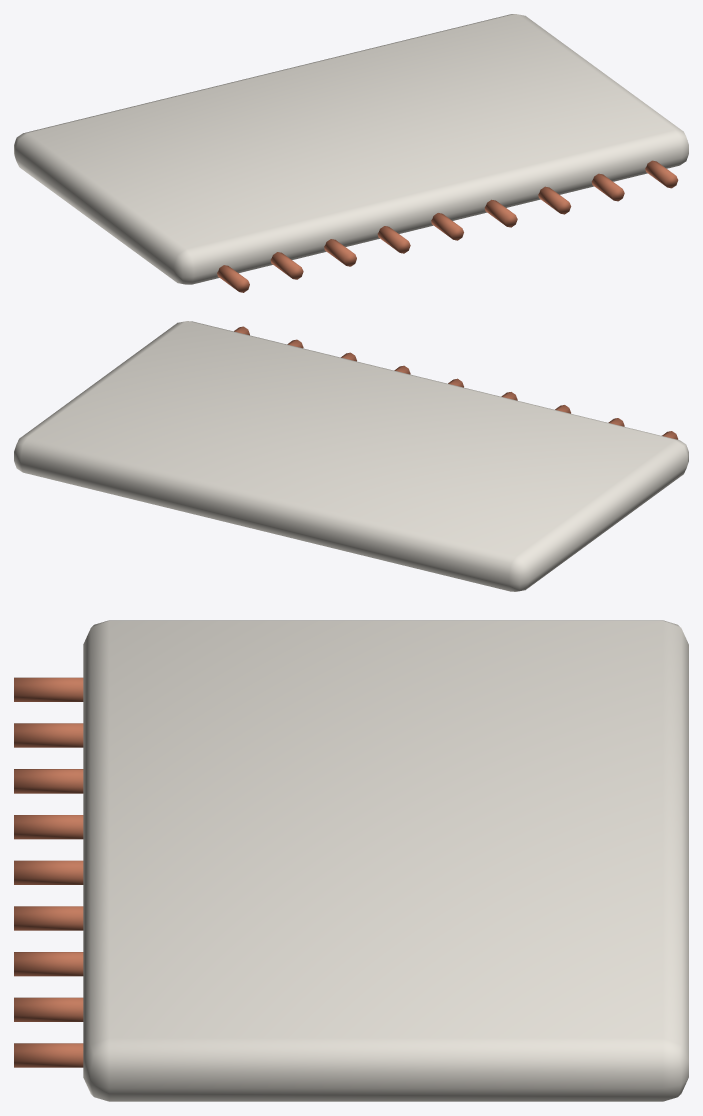
Rendered from vintage_blanket_02.glb.
The picture shows the model from 3 angles, top to bottom: view 1: azimuth 30°, elevation 25°; view 2: azimuth 150°, elevation 25°; view 3: azimuth 270°, elevation 25°; orthographic projection. The views are drawn at different scales.
Parts seen in each view (by area): view 1: vintage_blanket_02; view 2: vintage_blanket_02; view 3: vintage_blanket_02.
Part boxes in pixels (x1=…): vintage_blanket_02: x1=14, y1=14, x2=688, y2=292; vintage_blanket_02: x1=14, y1=321, x2=688, y2=591; vintage_blanket_02: x1=14, y1=620, x2=688, y2=1101.
Bounding box in the file's own units: 1.2 × 0.08 × 0.78.
